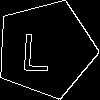L: (20, 24, 52, 72)
